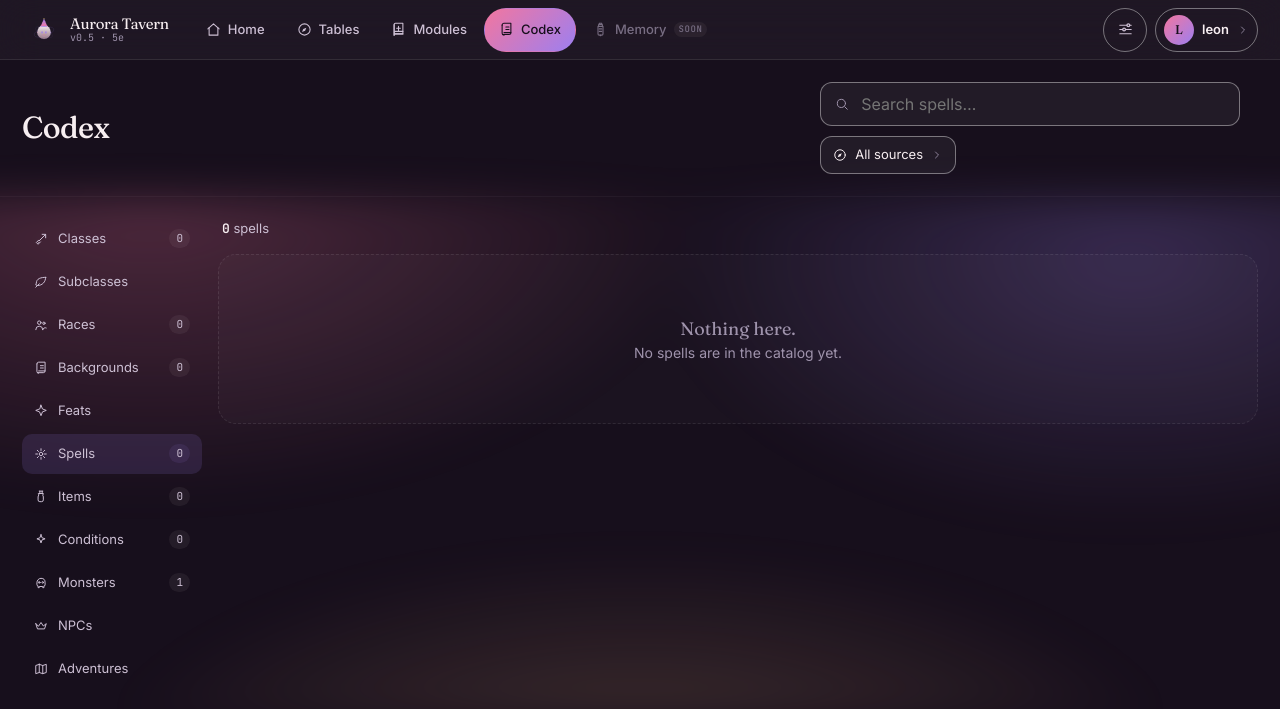
DDX21-1 fix pass 3: the architectural itemsKind gate — monster -> background (new repro) and a full-sweep regression net › selecting the goblin then switching to Backgrounds never throws, and the selection resets
Click the tab "Monsters 1" at [112, 582], box left=22, top=562, right=202, bottom=602
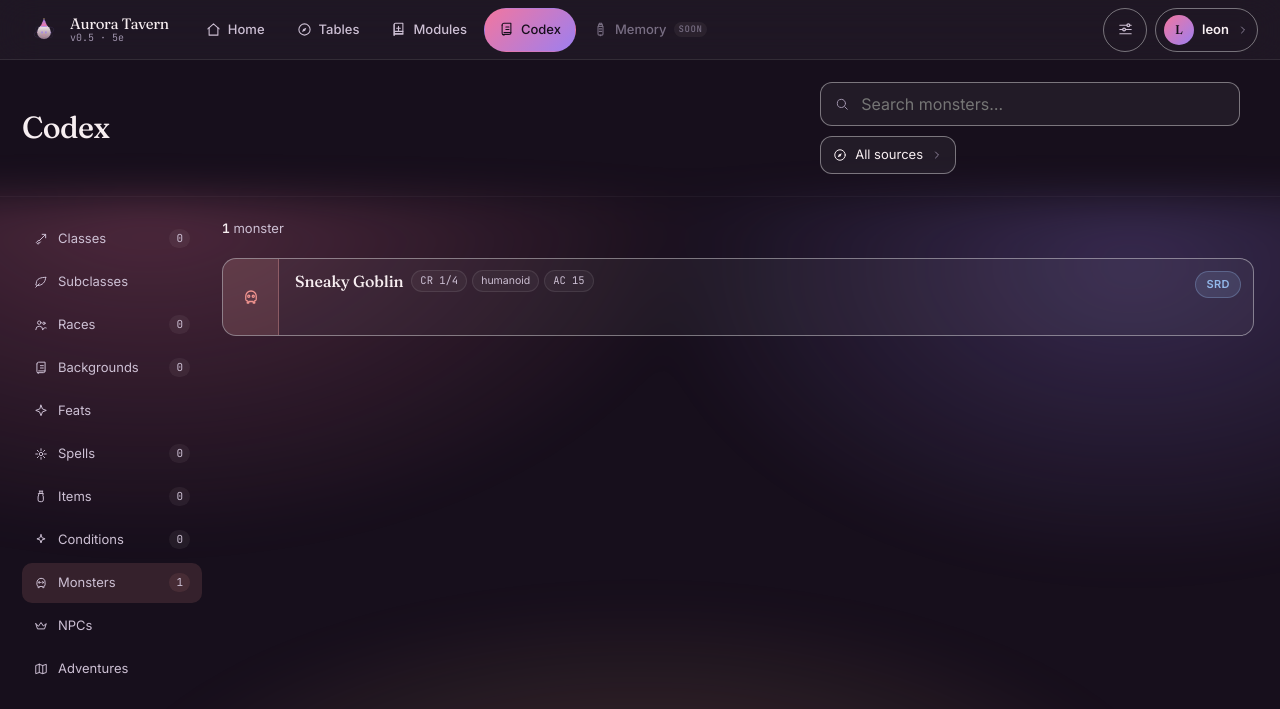
Click the option "Sneaky Goblin CR 1/4 humanoid AC 15 SRD" at [251, 297], box left=222, top=258, right=1254, bottom=336
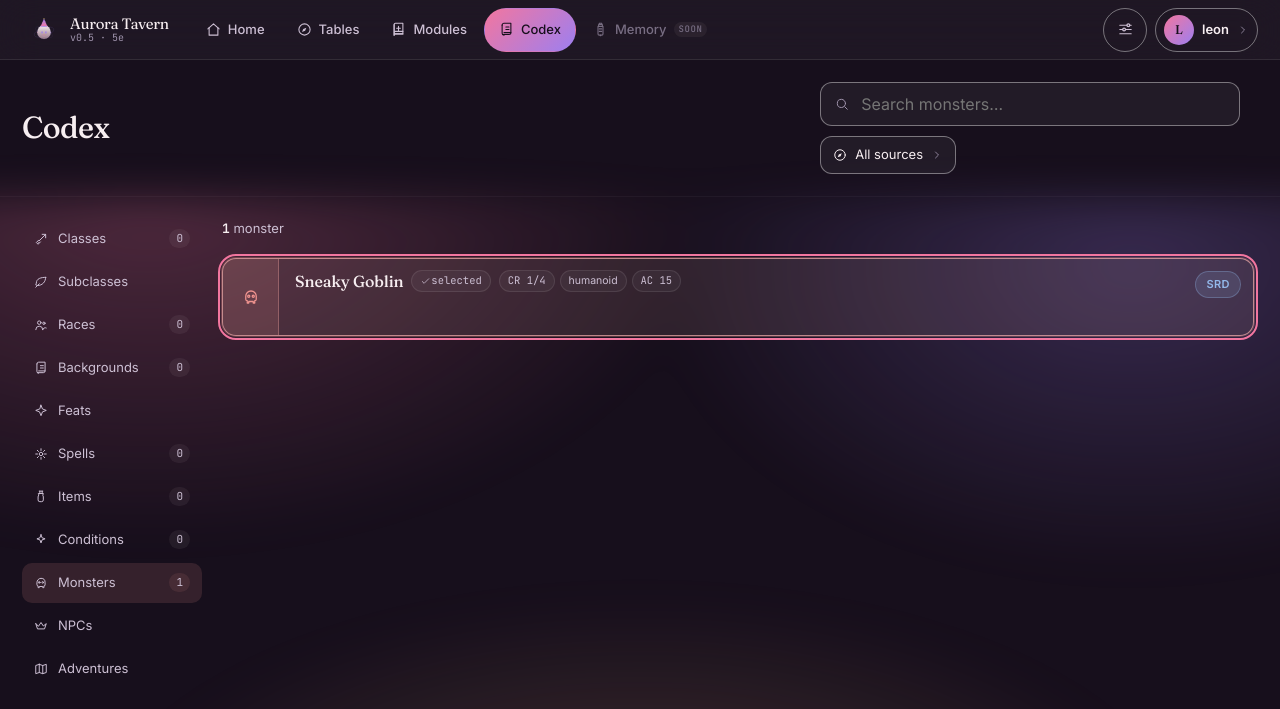
Click the tab "Backgrounds 0" at [112, 368], box left=22, top=348, right=202, bottom=388
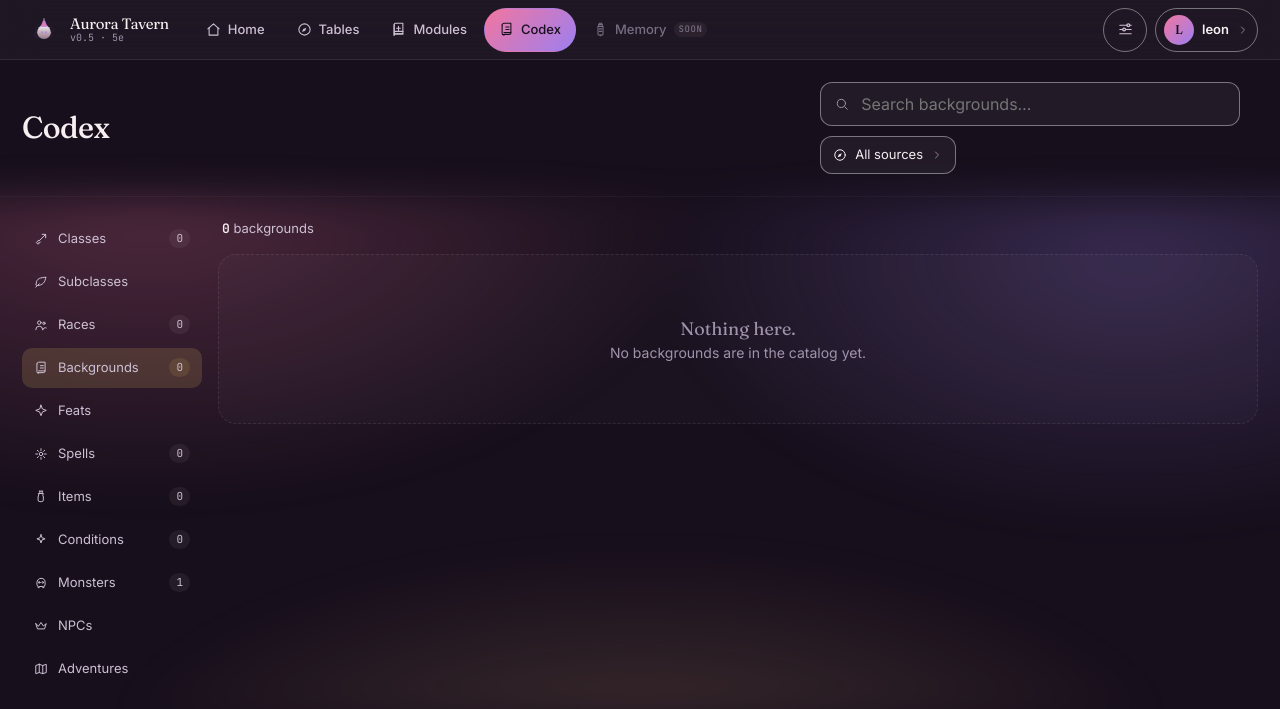
Now the option "Sneaky Goblin" is gone
